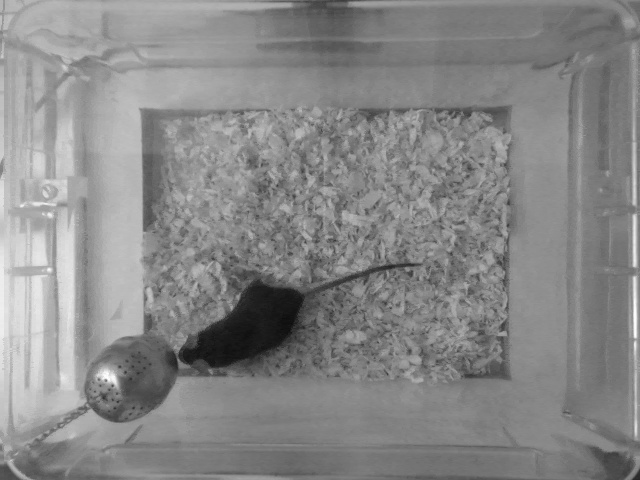mice: (176, 251, 425, 368)
